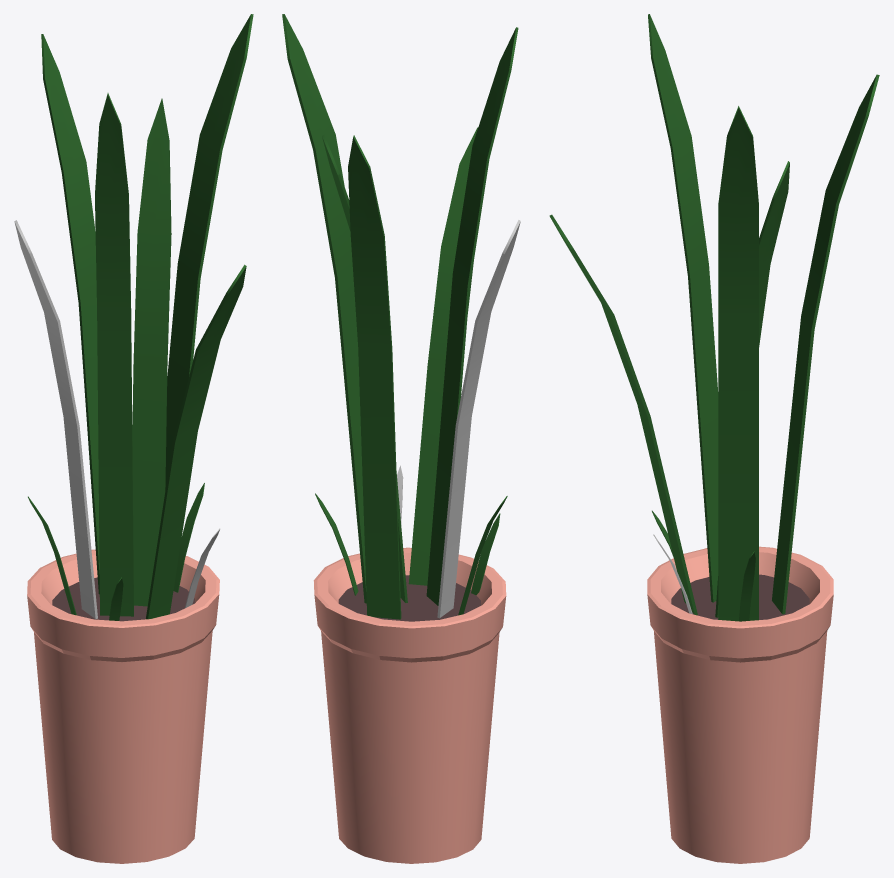
Rendered from plant_01.FBX.
3 renders of one model, left to right at view 1: azimuth 30°, elevation 25°; view 2: azimuth 150°, elevation 25°; view 3: azimuth 270°, elevation 25°, orthographic.
Visible parts, largest first — view 1: Cylinder040; view 2: Cylinder040; view 3: Cylinder040.
Boxes of the visible parts, bbox=[...] form: Cylinder040: bbox=[14, 14, 253, 863]; Cylinder040: bbox=[282, 14, 520, 863]; Cylinder040: bbox=[549, 14, 879, 863].
Size of the model in its own units: 52.7 by 166 by 63.07.
